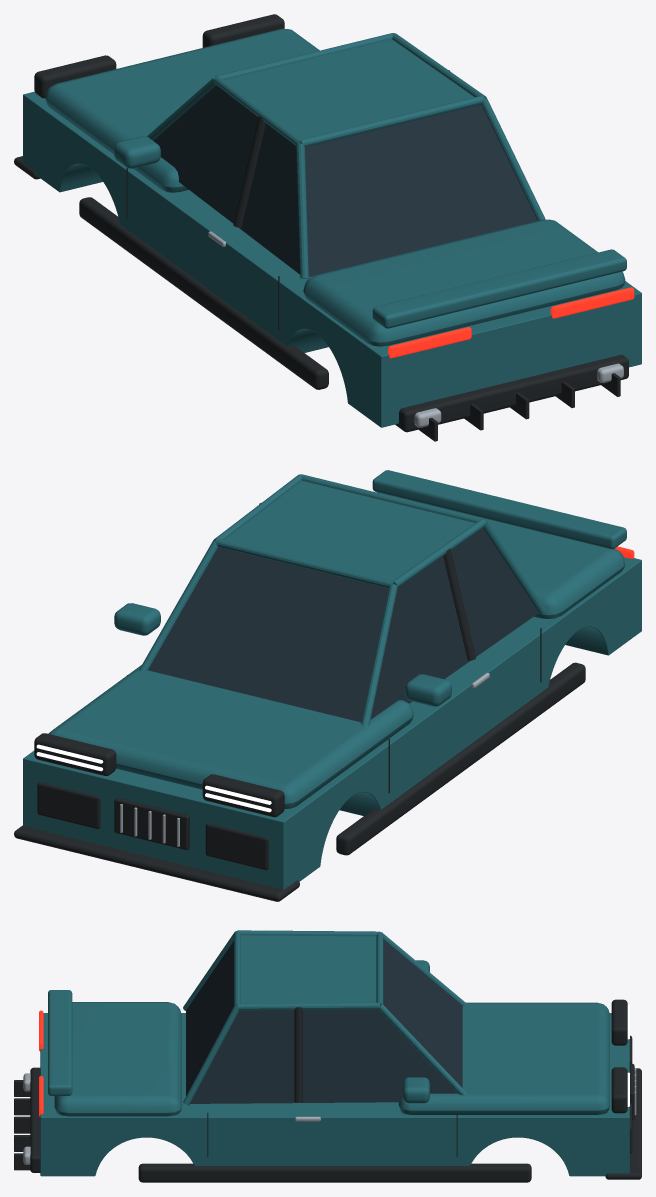
The model's file is coupe_body.glb.
3 views of the same model, one above another, from view 1: azimuth 30°, elevation 25°; view 2: azimuth 150°, elevation 25°; view 3: azimuth 270°, elevation 25° (orthographic). The views are drawn at different scales.
Parts seen in each view (by area): view 1: Panoramic cabin, Sculpted lower body, Rear deck, Hood, Ducktail lip, Side sill, Rear diffuser, Window frame.004, Headlight housing, Headlight housing.001, Window frame, Window frame.006 (+8 smaller); view 2: Panoramic cabin, Sculpted lower body, Hood, Rear deck, Ducktail lip, Side sill, Front splitter, Central grille, Front intake, Front intake.001, Headlight housing.001, Headlight housing (+10 smaller); view 3: Panoramic cabin, Sculpted lower body, Hood, Rear deck, Side sill.001, Ducktail lip, Front splitter, Rear diffuser, Window frame.005, Window frame.002, B pillar.001, Window frame.001 (+8 smaller).
Part boxes in pixels (left/top/right/bottom): Panoramic cabin: left=153, top=39, right=537, bottom=276; Sculpted lower body: left=23, top=91, right=641, bottom=427; Rear deck: left=303, top=219, right=625, bottom=346; Hood: left=45, top=28, right=319, bottom=192; Ducktail lip: left=372, top=249, right=626, bottom=328; Side sill: left=79, top=197, right=328, bottom=389; Rear diffuser: left=395, top=354, right=628, bottom=432; Window frame.004: left=300, top=95, right=484, bottom=147; Headlight housing: left=34, top=55, right=116, bottom=98; Headlight housing.001: left=202, top=14, right=284, bottom=47; Window frame: left=296, top=143, right=308, bottom=278; Window frame.006: left=215, top=33, right=393, bottom=80; Panoramic cabin: left=148, top=481, right=538, bottom=722; Sculpted lower body: left=23, top=557, right=641, bottom=889; Hood: left=48, top=665, right=413, bottom=808; Rear deck: left=377, top=492, right=625, bottom=618; Ducktail lip: left=372, top=470, right=626, bottom=549; Side sill: left=336, top=662, right=585, bottom=855; Front splitter: left=14, top=825, right=299, bottom=901; Central grille: left=114, top=798, right=189, bottom=849; Front intake: left=205, top=823, right=268, bottom=870; Front intake.001: left=37, top=782, right=100, bottom=828; Headlight housing.001: left=34, top=733, right=116, bottom=775; Headlight housing: left=202, top=774, right=284, bottom=817; Panoramic cabin: left=186, top=935, right=462, bottom=1103; Sculpted lower body: left=40, top=1013, right=629, bottom=1176; Hood: left=398, top=1002, right=609, bottom=1114; Rear deck: left=54, top=1002, right=181, bottom=1116; Side sill.001: left=138, top=1163, right=531, bottom=1182; Ducktail lip: left=48, top=990, right=72, bottom=1095; Front splitter: left=605, top=1068, right=641, bottom=1179; Rear diffuser: left=30, top=1067, right=40, bottom=1172; Window frame.005: left=237, top=1002, right=379, bottom=1010; Window frame.002: left=378, top=1004, right=467, bottom=1095; B pillar.001: left=294, top=1007, right=302, bottom=1102; Window frame.001: left=183, top=1006, right=239, bottom=1105.
Size of the model in its own units: 2.29 by 1.35 by 4.64.
